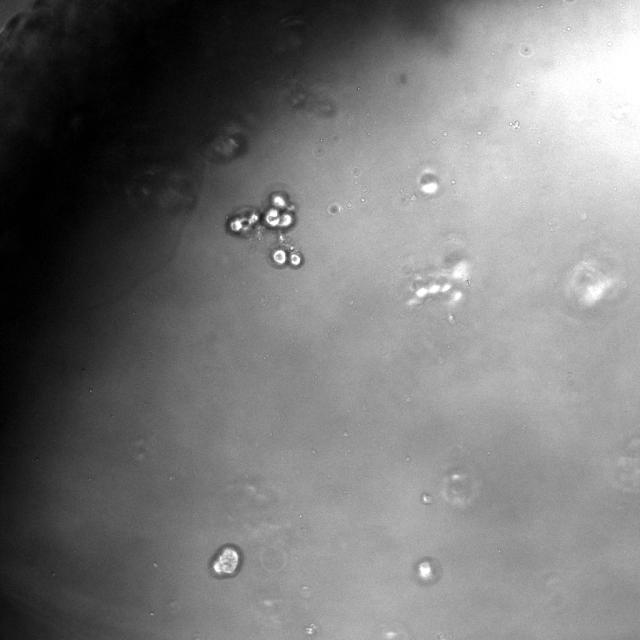organoid: (226, 190, 296, 235), (208, 543, 243, 579), (269, 246, 303, 268)
